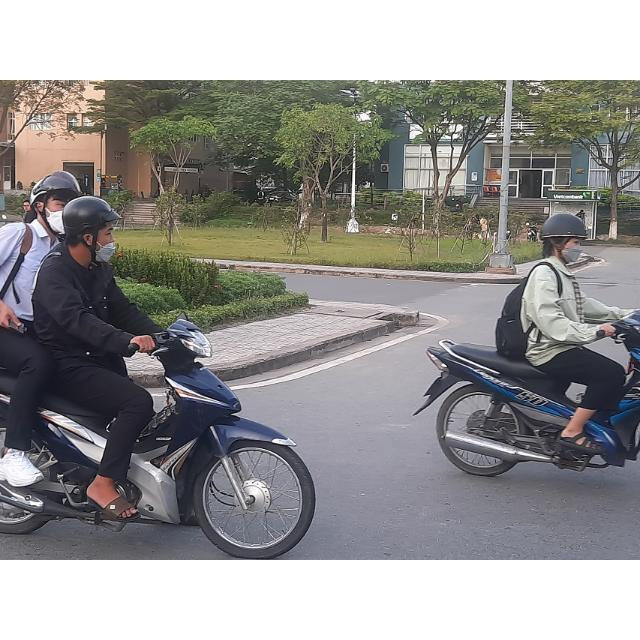Helmet: (64, 198, 120, 266), (27, 170, 75, 230), (541, 212, 587, 260)
